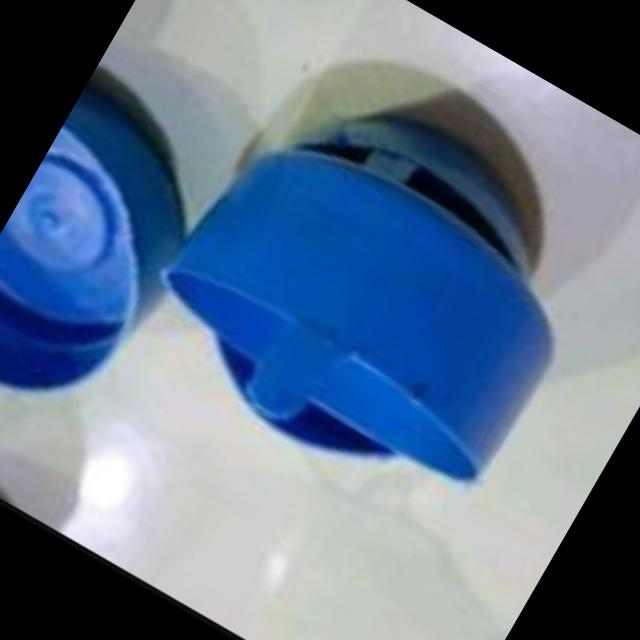TutupGalon: (117, 44, 627, 538)
